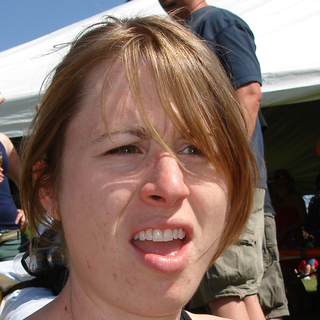eye: (98, 139, 148, 162), (169, 138, 212, 164)
